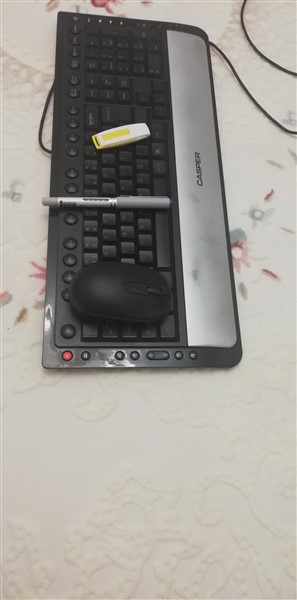flash disk: (87, 121, 157, 154)
klavye: (41, 7, 246, 373)
mouse: (63, 252, 176, 330)
pilot kalem: (40, 191, 176, 215)
